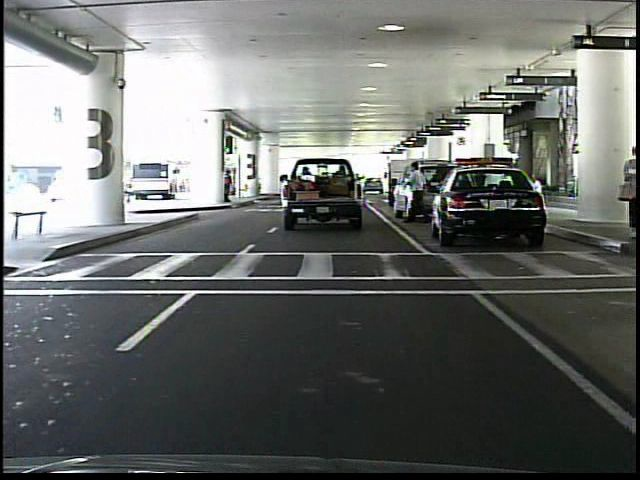person: (615, 146, 638, 240), (407, 158, 429, 226), (223, 162, 237, 204)
